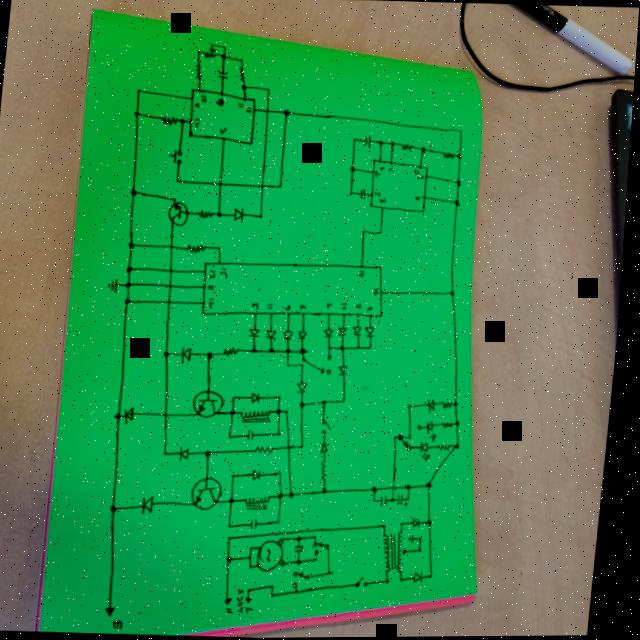capacitor: (215, 64, 232, 79), (402, 492, 416, 507), (255, 517, 267, 529), (364, 134, 376, 146), (384, 495, 396, 507), (250, 428, 263, 439), (360, 187, 371, 199), (302, 543, 313, 552)
crossover: (171, 241, 180, 249), (167, 409, 175, 417), (262, 182, 269, 190), (171, 266, 179, 273), (219, 178, 226, 185), (170, 297, 176, 304), (293, 443, 299, 449), (172, 282, 178, 288), (265, 107, 271, 113), (398, 484, 403, 489)
diode: (430, 418, 445, 441), (148, 493, 164, 513), (424, 441, 439, 461), (233, 204, 249, 221), (183, 344, 198, 362), (184, 444, 199, 461), (128, 405, 142, 423), (268, 326, 284, 341), (430, 397, 444, 413), (300, 380, 314, 393), (420, 570, 433, 583), (252, 326, 266, 338), (368, 325, 381, 337), (255, 390, 267, 403), (342, 364, 355, 376), (301, 328, 314, 339), (325, 442, 337, 453), (326, 327, 339, 337), (258, 467, 268, 480), (286, 328, 299, 338), (356, 324, 367, 335), (417, 516, 429, 526), (342, 325, 353, 334)
ground: (109, 276, 124, 292), (415, 533, 422, 543)
inductor: (243, 408, 278, 423), (249, 493, 279, 510)
junction: (282, 107, 292, 117), (452, 288, 461, 298), (457, 177, 466, 186), (421, 144, 429, 154), (210, 349, 219, 357), (136, 85, 145, 93), (134, 109, 143, 117), (132, 187, 140, 196), (352, 134, 361, 142), (305, 346, 314, 354), (457, 151, 465, 160), (279, 180, 287, 188), (431, 481, 439, 489), (131, 240, 139, 248), (457, 126, 465, 134), (434, 573, 442, 581), (128, 296, 136, 304), (129, 279, 137, 287), (379, 138, 388, 145), (120, 410, 127, 418), (351, 165, 358, 173), (327, 487, 335, 494), (457, 198, 464, 206), (117, 504, 125, 511), (255, 346, 263, 353), (129, 264, 137, 271), (241, 83, 250, 89), (169, 448, 176, 455), (266, 85, 273, 92), (196, 47, 203, 54), (236, 471, 243, 478), (234, 432, 241, 439), (282, 429, 289, 436), (351, 188, 358, 195), (233, 554, 240, 561), (211, 449, 217, 457), (392, 139, 398, 147), (296, 490, 302, 498), (379, 485, 385, 493), (289, 346, 297, 352), (306, 400, 312, 407), (461, 420, 467, 427), (365, 226, 371, 233), (381, 227, 387, 234), (235, 496, 242, 502), (335, 568, 342, 574), (219, 245, 226, 251), (412, 483, 419, 489), (344, 343, 350, 350), (332, 343, 338, 350), (290, 407, 297, 413), (392, 578, 399, 584), (460, 443, 467, 449), (168, 349, 175, 355), (221, 51, 228, 57), (182, 117, 188, 124), (434, 518, 440, 525), (406, 519, 413, 525), (305, 442, 311, 448), (260, 212, 266, 218), (327, 398, 333, 404), (412, 402, 418, 408), (240, 57, 246, 63), (179, 176, 185, 182), (234, 521, 240, 527), (284, 470, 290, 476), (282, 408, 288, 414), (235, 409, 241, 415), (274, 346, 280, 352), (304, 558, 310, 564), (283, 517, 289, 523), (459, 400, 465, 406), (282, 392, 288, 398), (237, 394, 243, 400), (360, 343, 366, 349), (220, 210, 226, 216), (346, 396, 352, 402), (174, 195, 180, 201), (424, 547, 431, 552), (235, 533, 240, 539), (305, 534, 310, 540), (396, 496, 401, 502), (379, 496, 384, 502), (290, 361, 296, 366), (390, 522, 395, 528), (254, 587, 260, 592), (372, 344, 378, 348), (286, 492, 290, 498), (278, 584, 284, 588), (210, 42, 216, 46), (321, 556, 326, 560), (408, 576, 412, 581), (279, 592, 284, 596), (303, 589, 308, 593), (223, 45, 228, 49), (426, 536, 430, 540), (413, 496, 417, 500), (321, 534, 325, 538), (400, 434, 403, 438)
resistor: (258, 443, 281, 455), (160, 113, 181, 125), (324, 460, 336, 481), (191, 242, 211, 254), (204, 46, 219, 60), (194, 61, 205, 79), (442, 149, 460, 160), (200, 207, 217, 218), (228, 345, 245, 355), (402, 140, 417, 151), (239, 64, 248, 81), (445, 399, 459, 409), (445, 420, 460, 428), (444, 443, 458, 451)
switch: (300, 351, 341, 374), (402, 423, 431, 453), (300, 569, 320, 589), (169, 146, 187, 165), (319, 540, 338, 553), (363, 575, 379, 590), (325, 418, 338, 435)
terminal: (113, 604, 125, 615), (231, 597, 242, 604), (253, 596, 261, 602)
text: (243, 587, 254, 611), (210, 296, 220, 309), (219, 124, 231, 134), (342, 300, 353, 310), (196, 116, 205, 128), (216, 96, 226, 106), (360, 268, 371, 277), (122, 619, 133, 628), (212, 268, 221, 278), (223, 266, 232, 276), (329, 299, 338, 308), (302, 302, 312, 310), (375, 287, 385, 295), (358, 301, 368, 309), (232, 606, 243, 613), (270, 301, 279, 309), (255, 301, 264, 309), (381, 196, 391, 203), (253, 606, 264, 612), (247, 105, 255, 113), (371, 304, 379, 312), (390, 166, 399, 173), (377, 189, 386, 196), (418, 174, 428, 180), (417, 194, 424, 202), (202, 92, 209, 100), (238, 101, 246, 108), (377, 169, 384, 176), (414, 167, 422, 173), (211, 283, 219, 289), (195, 102, 203, 108), (381, 164, 389, 170), (289, 304, 295, 310)
transformer: (385, 529, 416, 572)
transistor: (197, 475, 231, 510), (196, 388, 232, 417), (169, 199, 194, 226)
